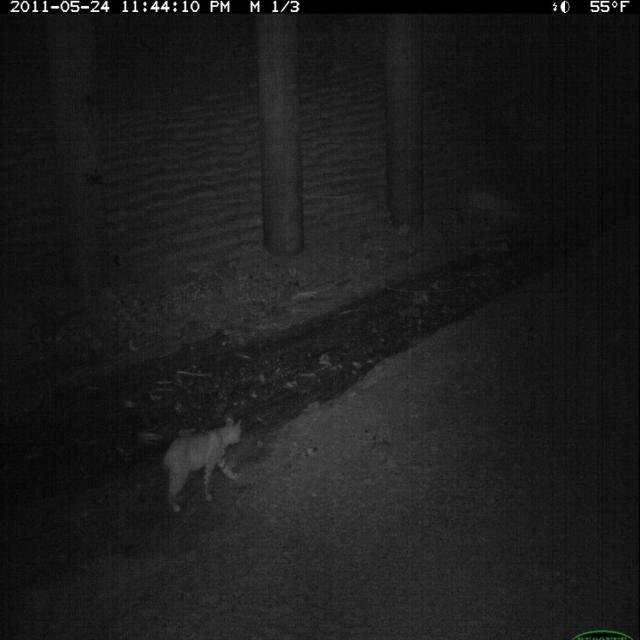bobcat: (160, 414, 246, 515)
